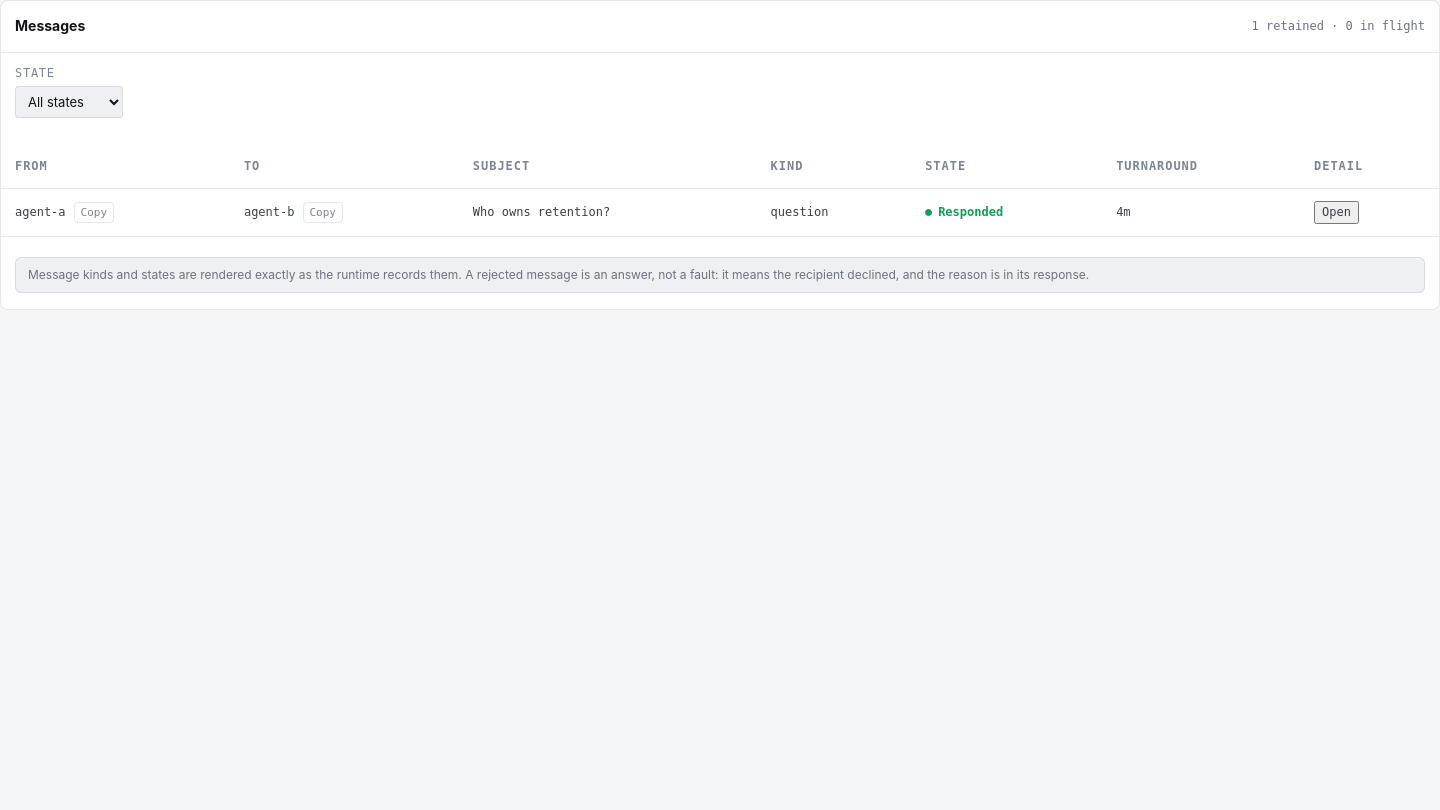
it: MessagesView › shows the routing reason and the request body only once opened
The width and height of the screenshot is (1440, 810).
Expected: the text "only online session" is not shown
Click the button "Open". click: (1336, 212)
box: x1=1314 y1=201 x2=1359 y2=224
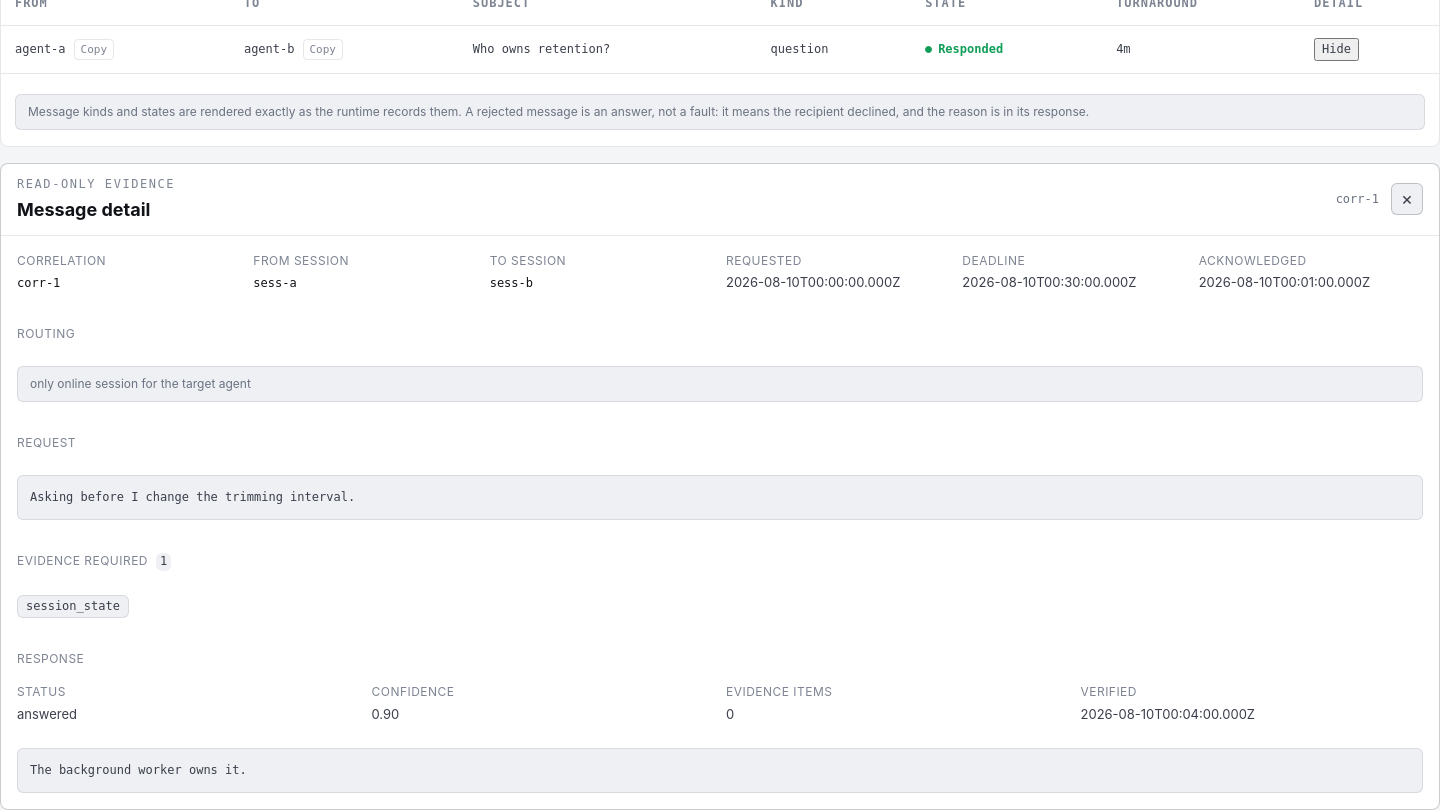
Expected: the text "only online session for the target agent" is shown, x1=17 y1=366 x2=1423 y2=402
Expected: the text "Asking before I change the trimming interval." is shown, x1=17 y1=475 x2=1423 y2=520
Expected: the text "The background worker owns it." is shown, x1=17 y1=748 x2=1423 y2=793
Click the button named "Close detail". click: (1407, 199)
box: x1=1391 y1=183 x2=1423 y2=215
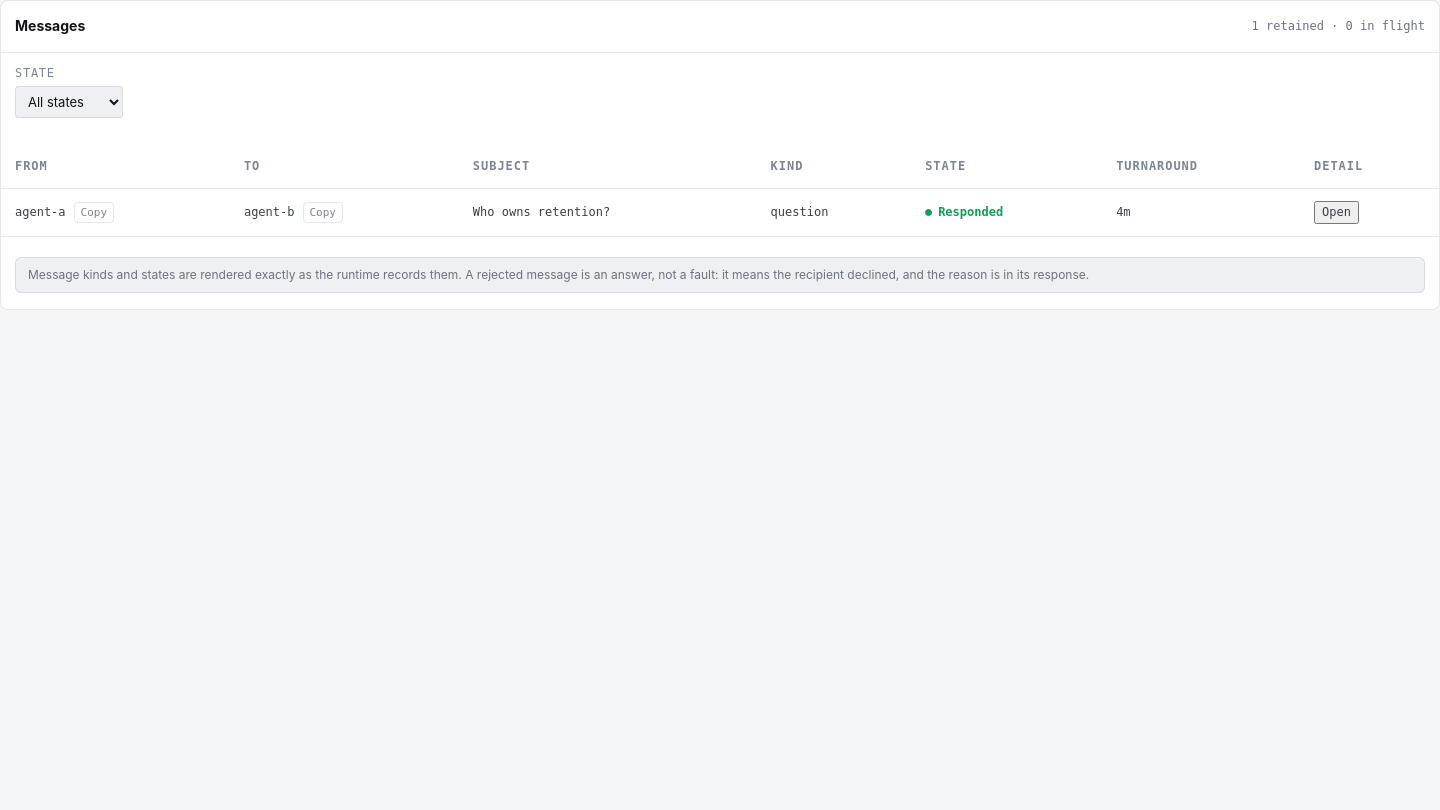
Expected: the heading "Message detail" is gone
